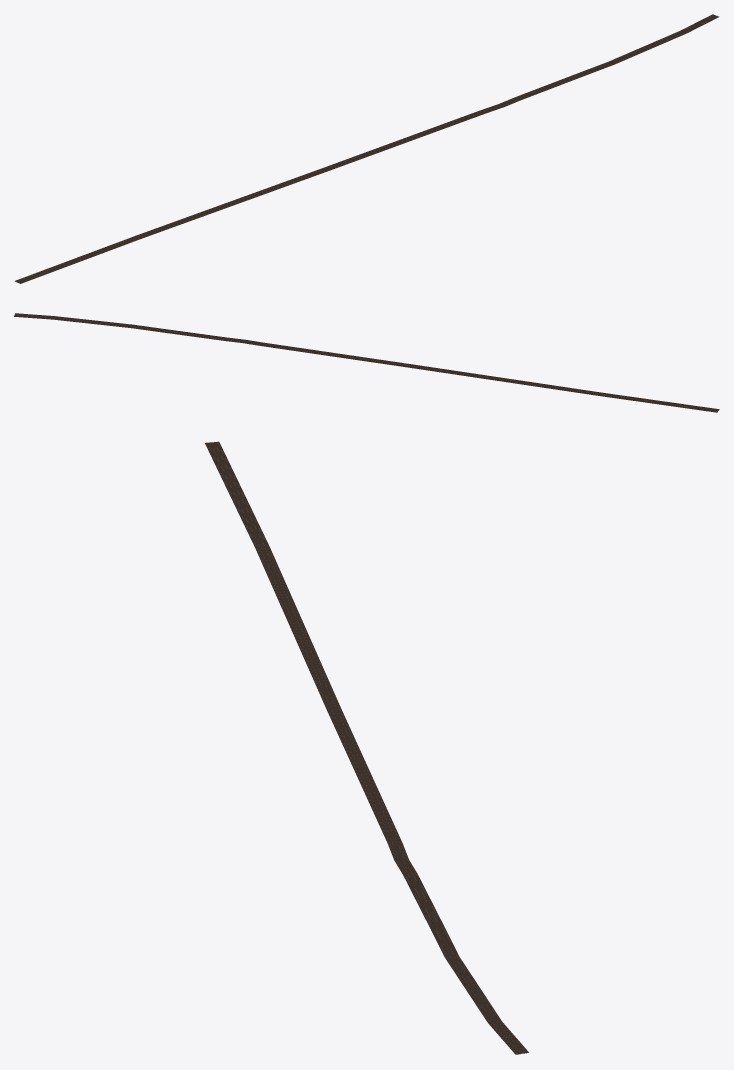
Rendered from kobe_0030.glb.
The picture shows the model from 3 angles, top to bottom: view 1: azimuth 30°, elevation 25°; view 2: azimuth 150°, elevation 25°; view 3: azimuth 270°, elevation 25°; orthographic projection. The views are drawn at different scales.
Visible parts, largest first — view 1: ballast_top, oxidised_rail_profiles; view 2: ballast_top, oxidised_rail_profiles, ballast_left; view 3: ballast_top, oxidised_rail_profiles.
Part boxes in pixels (box(x1,y1,x2,y2)): ballast_top: box(14, 14, 719, 283); oxidised_rail_profiles: box(15, 14, 716, 283); ballast_top: box(14, 313, 718, 411); oxidised_rail_profiles: box(15, 313, 719, 411); ballast_left: box(14, 316, 717, 412); ballast_top: box(205, 441, 528, 1054); oxidised_rail_profiles: box(207, 442, 527, 1053).
Bounding box in the file's own units: 740 × 0.819 × 166.
4 materials, 3 textured.
